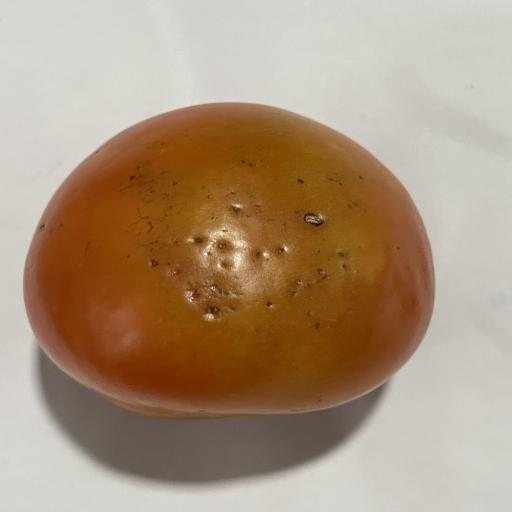overipe: (24, 103, 434, 418)
